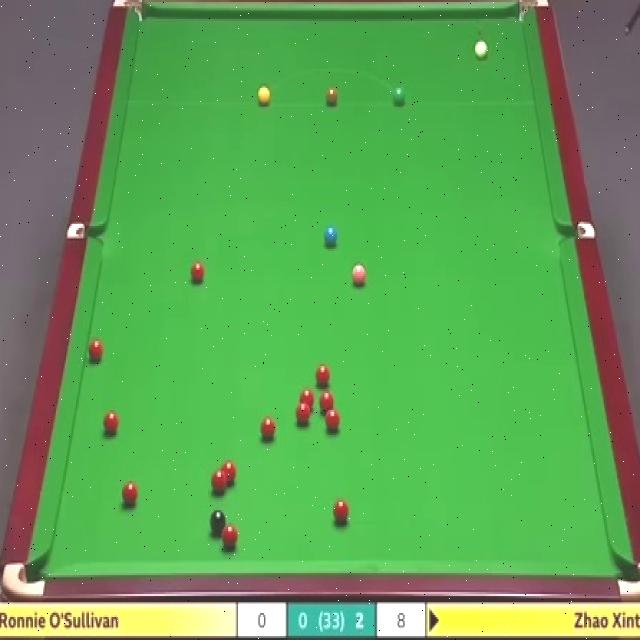black-ball: (208, 507, 228, 539)
blue-ball: (324, 224, 340, 250)
brown-ball: (325, 87, 339, 108)
green-ball: (390, 86, 405, 108)
pink-ball: (350, 259, 370, 288)
red-ball: (221, 525, 240, 553), (121, 480, 139, 508), (209, 470, 228, 496), (313, 362, 332, 388), (102, 408, 119, 437), (87, 336, 104, 364), (294, 402, 312, 427), (332, 499, 349, 525), (190, 260, 207, 284), (261, 418, 277, 443), (298, 388, 315, 410), (325, 408, 340, 432), (222, 460, 238, 482), (322, 393, 338, 412)
white-ball: (472, 36, 490, 64)
yellow-ball: (257, 85, 271, 107)
